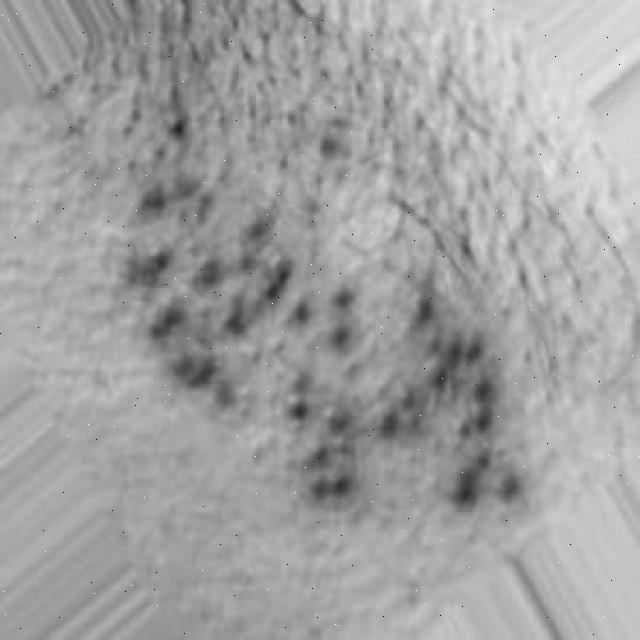Shingles: (122, 162, 523, 513)
